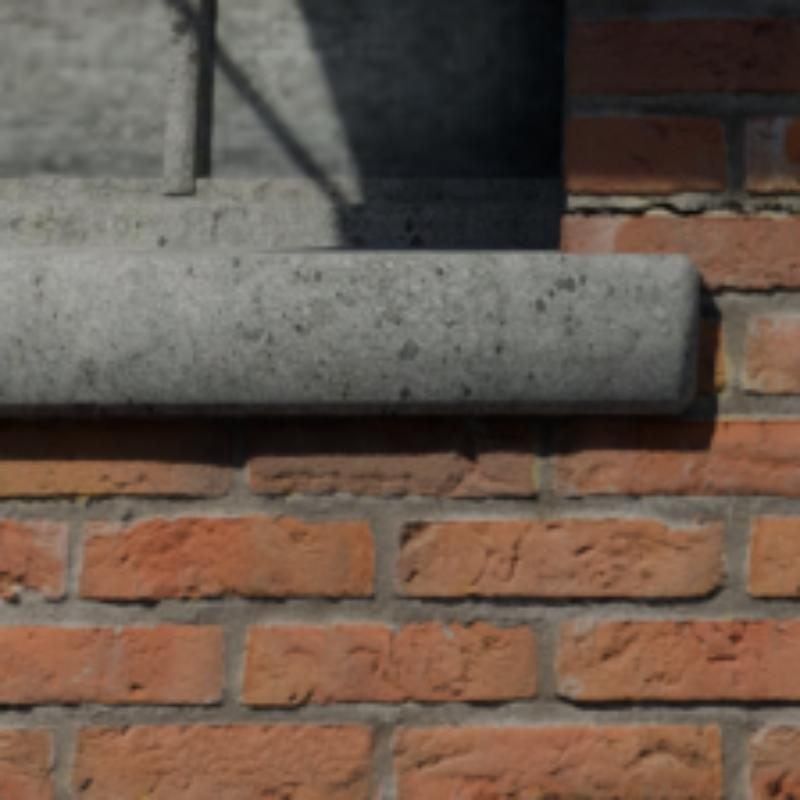pothole: (569, 202, 796, 216)
